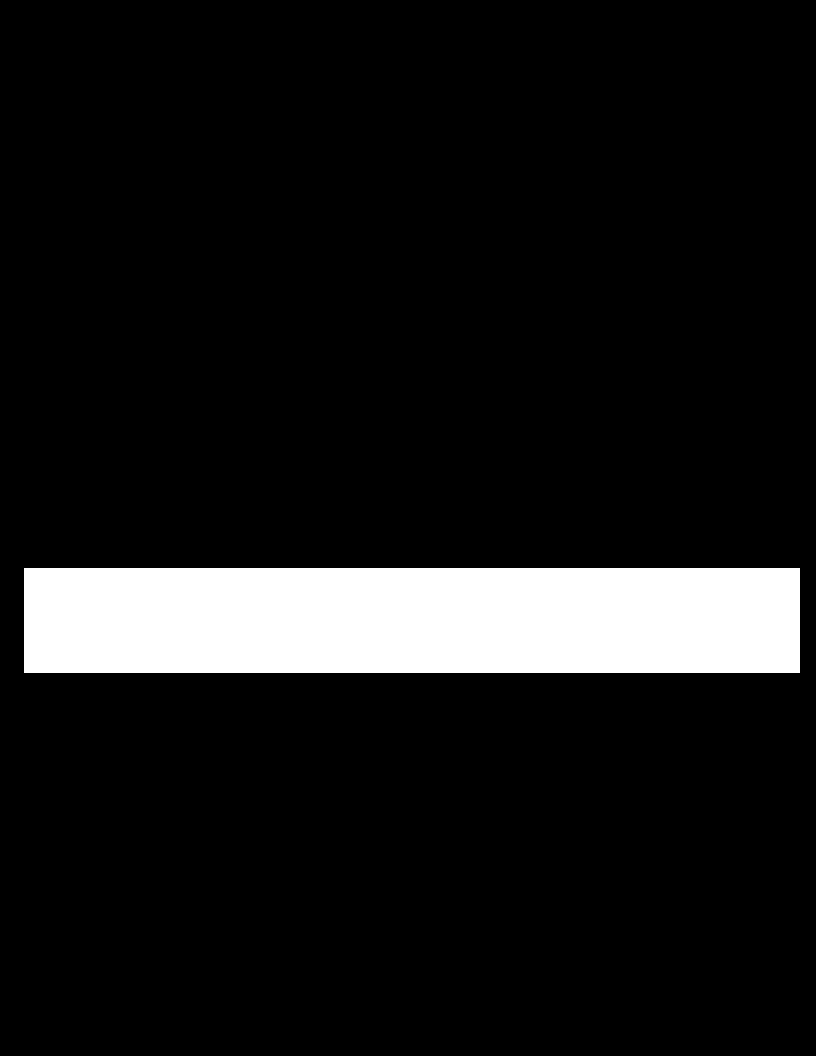table: (24, 568, 799, 672)
